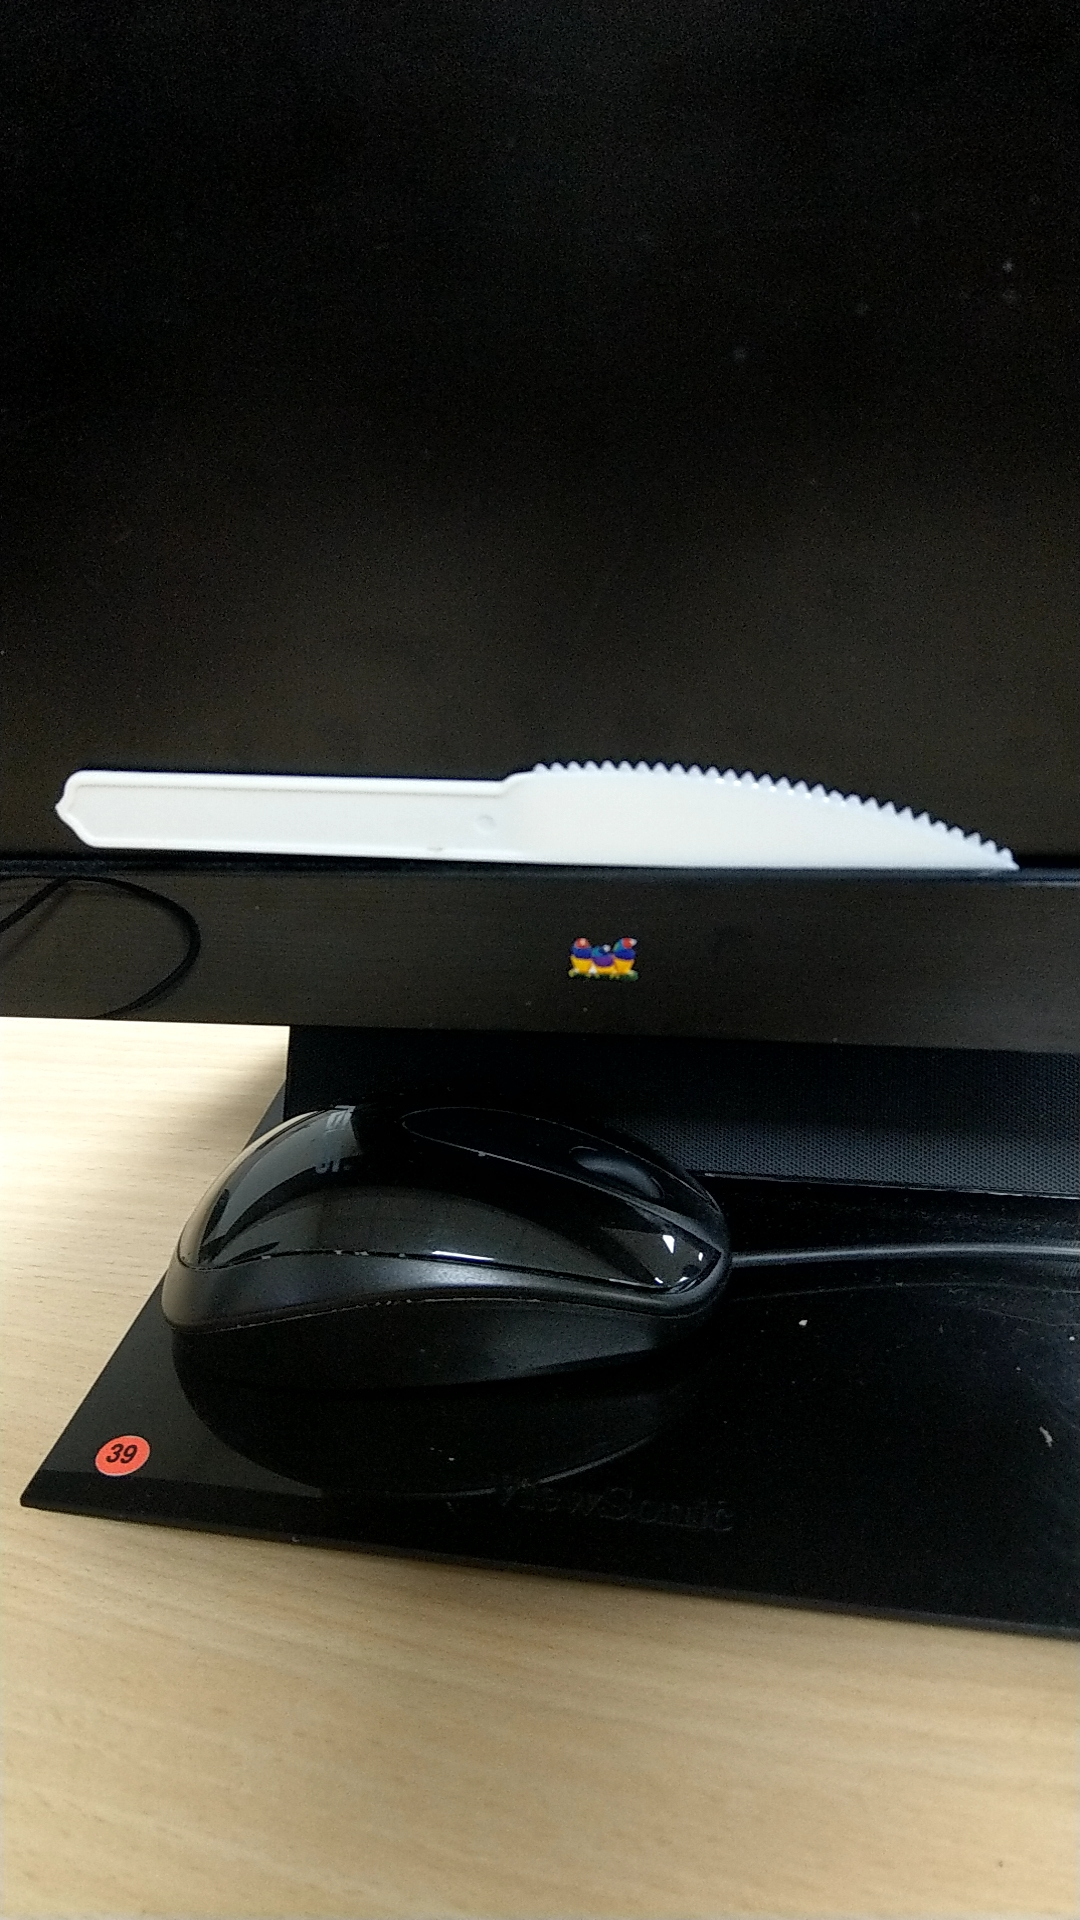knife: (51, 750, 1036, 899)
